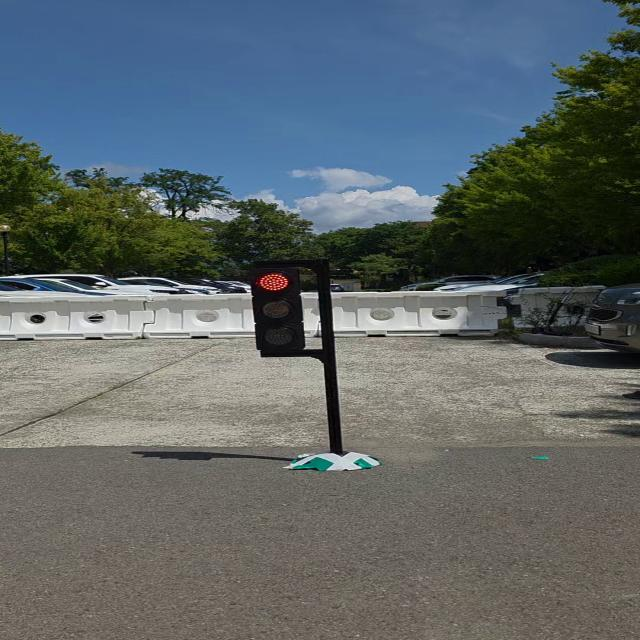red: (242, 266, 312, 360)
